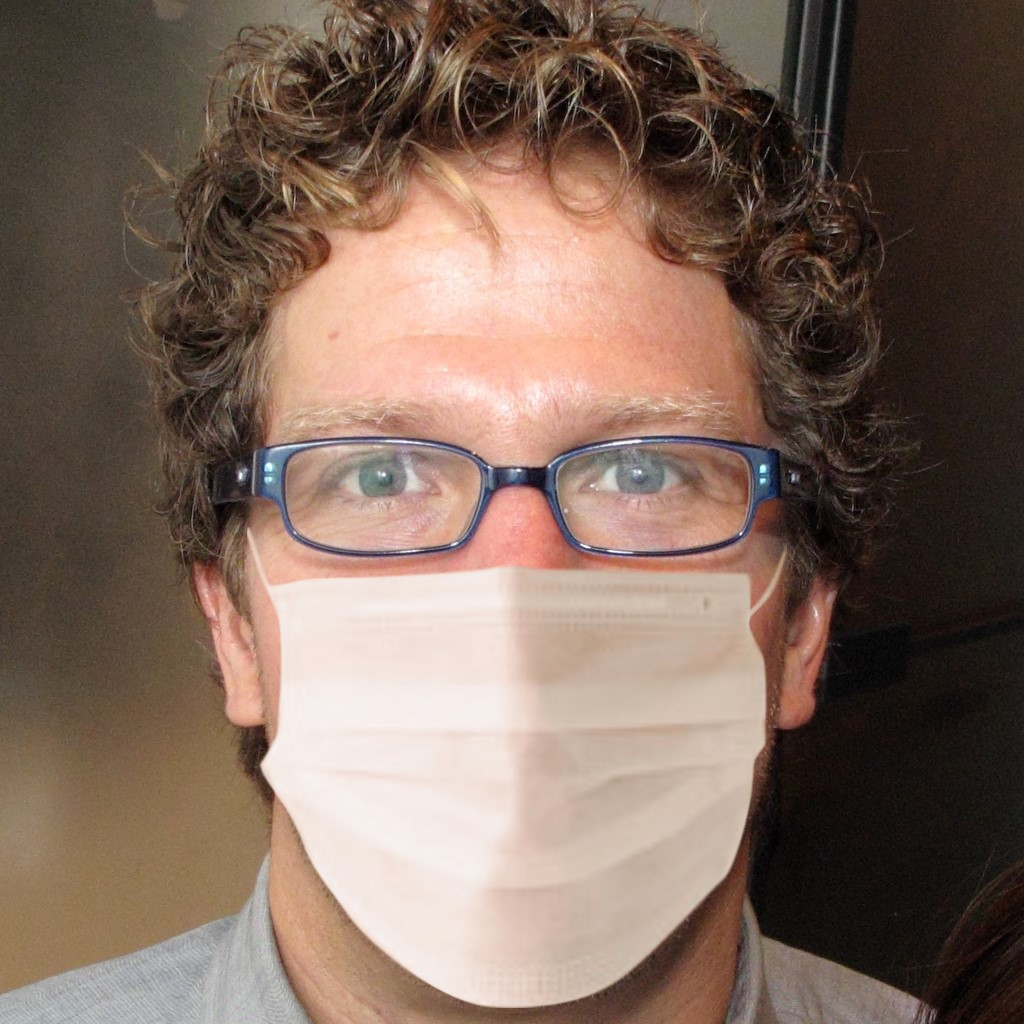con_mascara: (214, 135, 783, 990)
